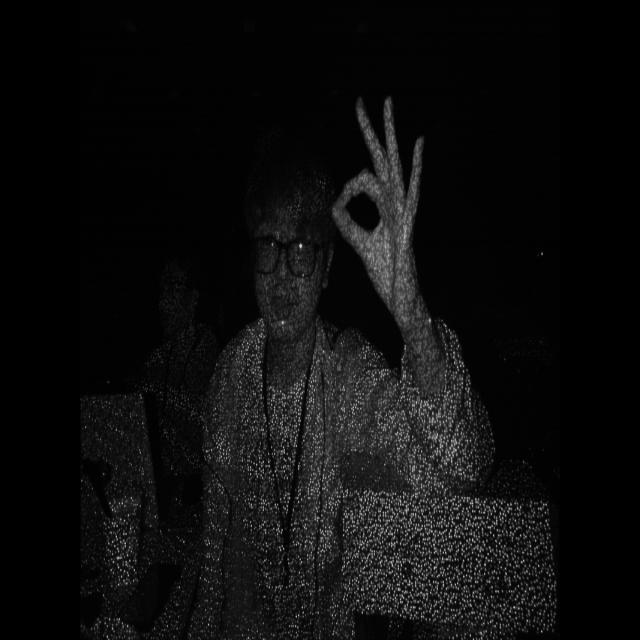F: (323, 84, 433, 306)
